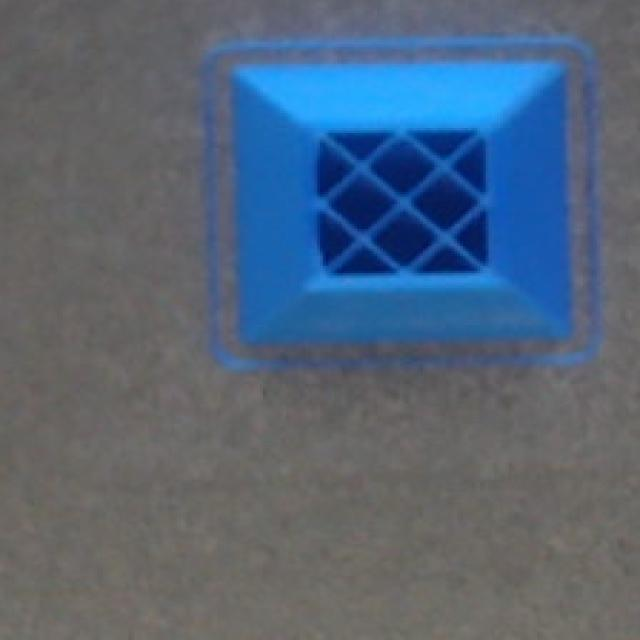noMistake: (209, 39, 597, 362)
